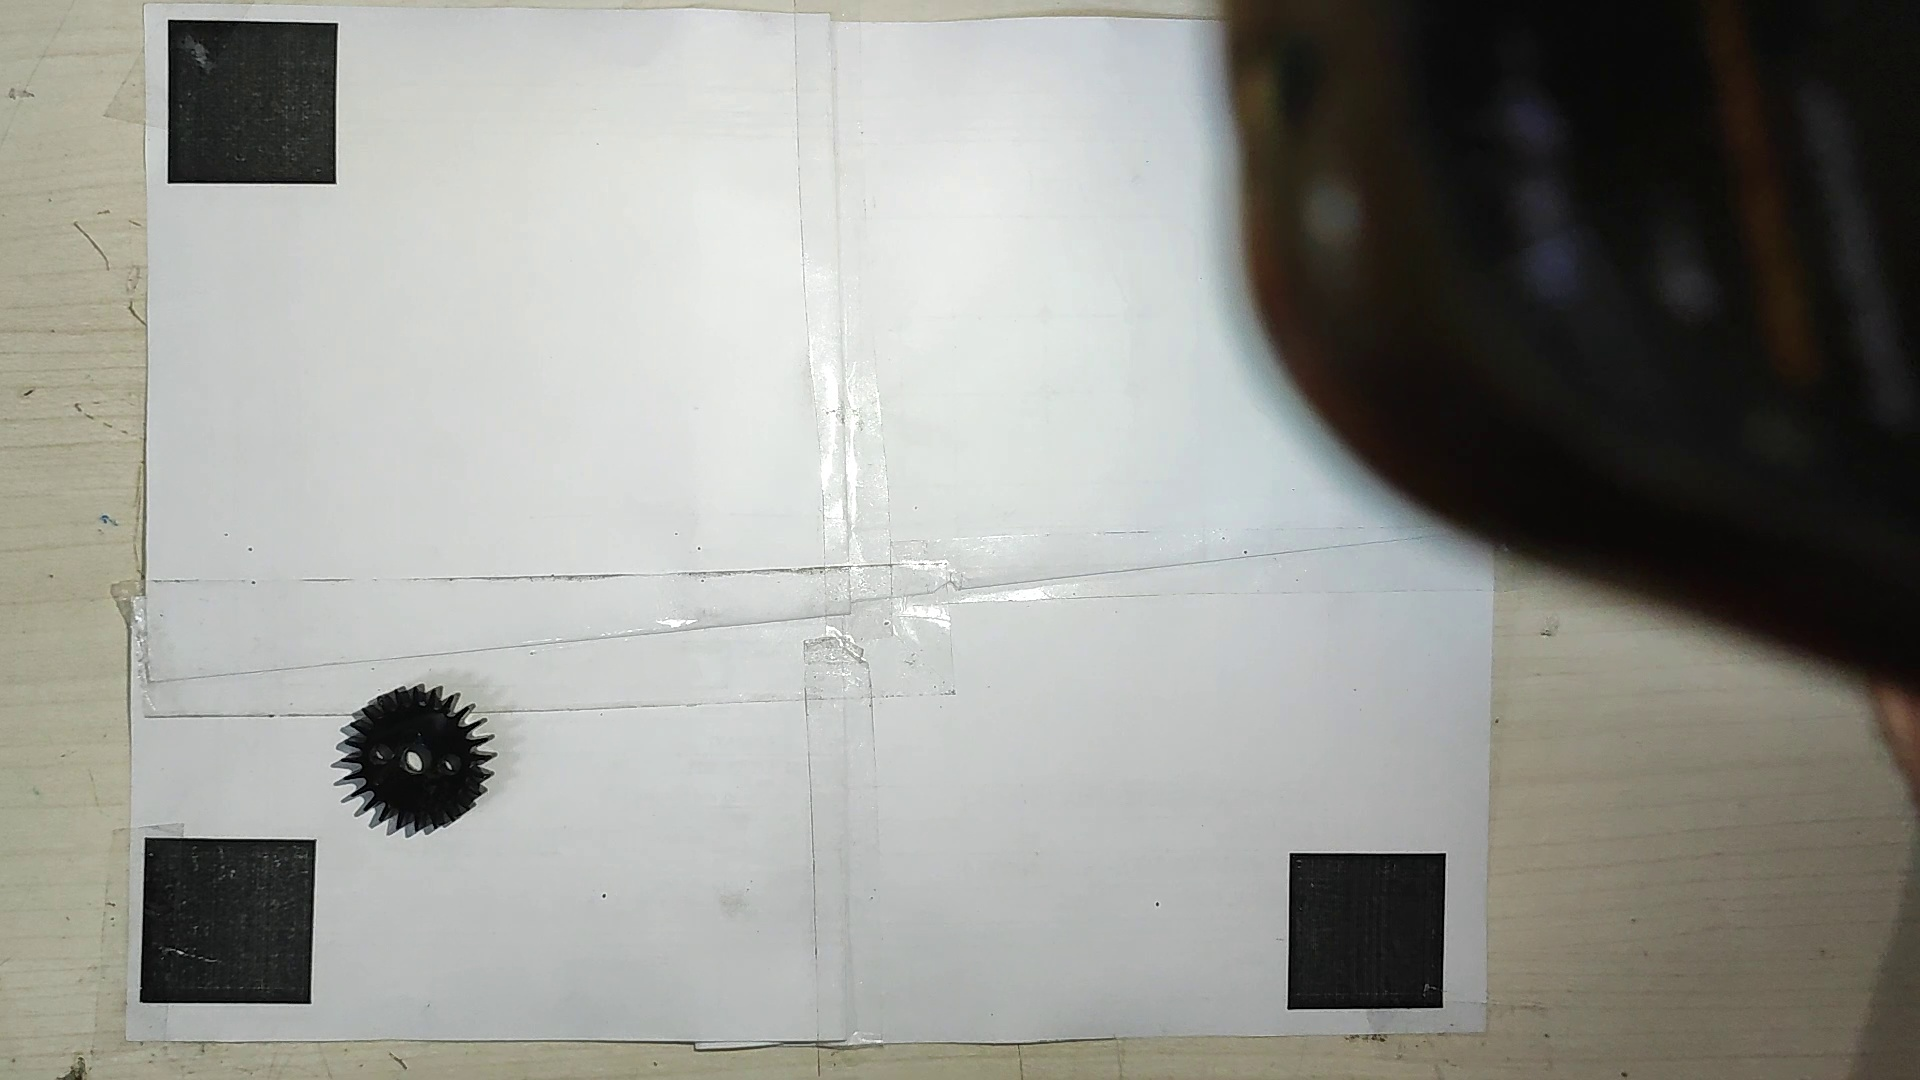Gear: (331, 678, 498, 839)
